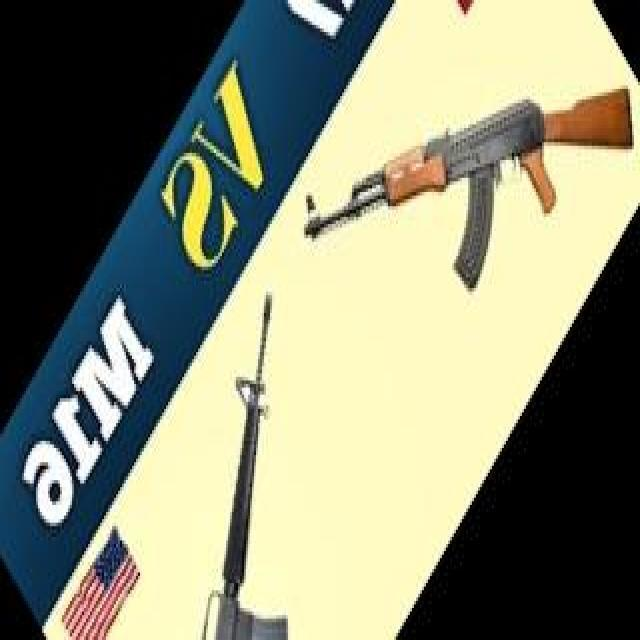Rifle: (304, 85, 636, 292), (202, 290, 289, 640)
